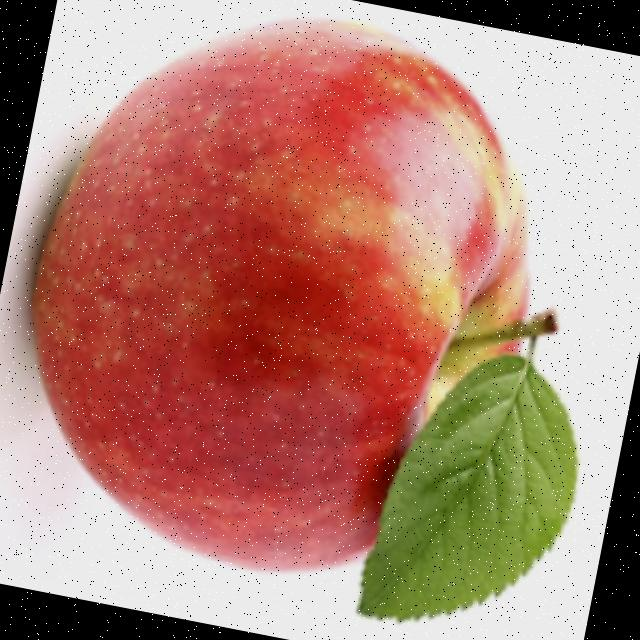Ripe: (0, 0, 585, 623)
